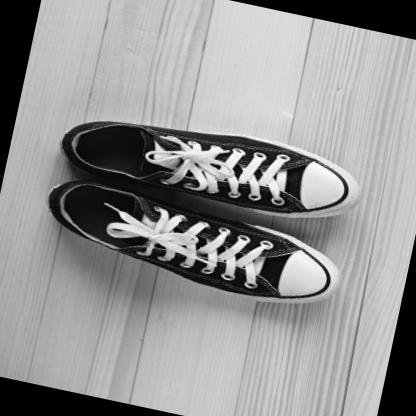left_foot: (73, 90, 378, 231)
right_foot: (55, 186, 363, 317)
